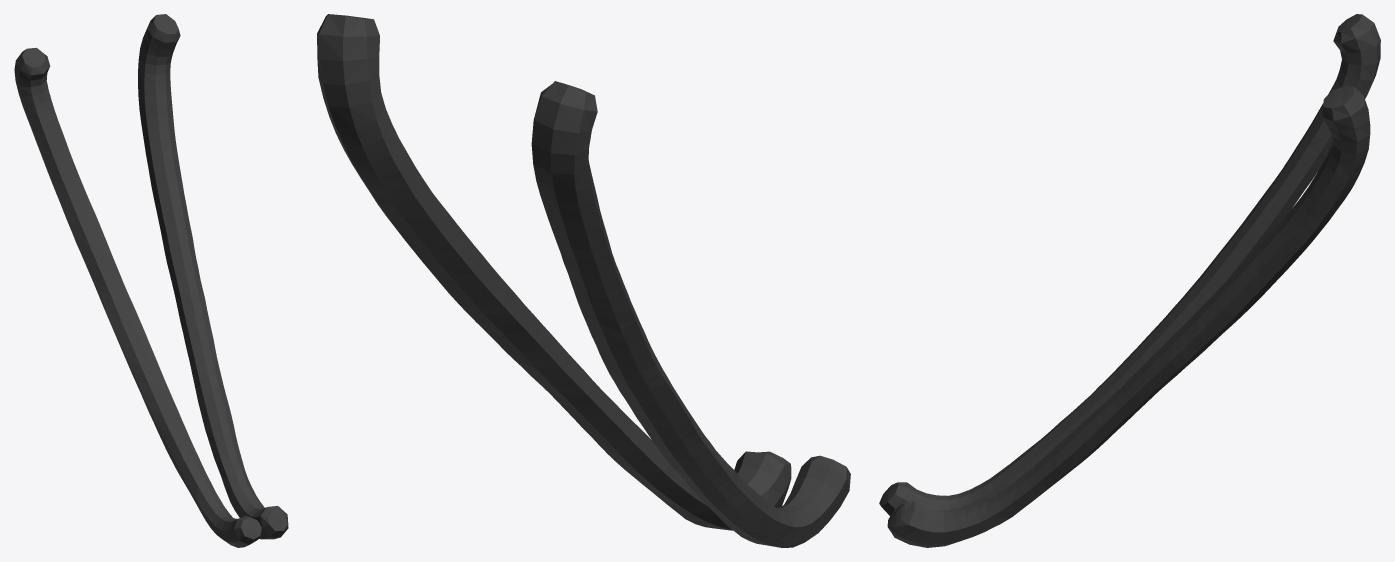
File: Oblique_sesamoid_ligaments.glb
3 renders of one model, left to right at view 1: azimuth 30°, elevation 25°; view 2: azimuth 150°, elevation 25°; view 3: azimuth 270°, elevation 25°, orthographic. The views are drawn at different scales.
Visible parts, largest first — view 1: Oblique_sesamoid_ligaments; view 2: Oblique_sesamoid_ligaments; view 3: Oblique_sesamoid_ligaments.
Boxes of the visible parts, bbox=[...] form: Oblique_sesamoid_ligaments: bbox=[14, 14, 288, 547]; Oblique_sesamoid_ligaments: bbox=[317, 14, 850, 547]; Oblique_sesamoid_ligaments: bbox=[879, 14, 1380, 547].
Size of the model in its own units: 6.69 by 16.07 by 14.65.
Materials: 1 (1 with a texture image).
